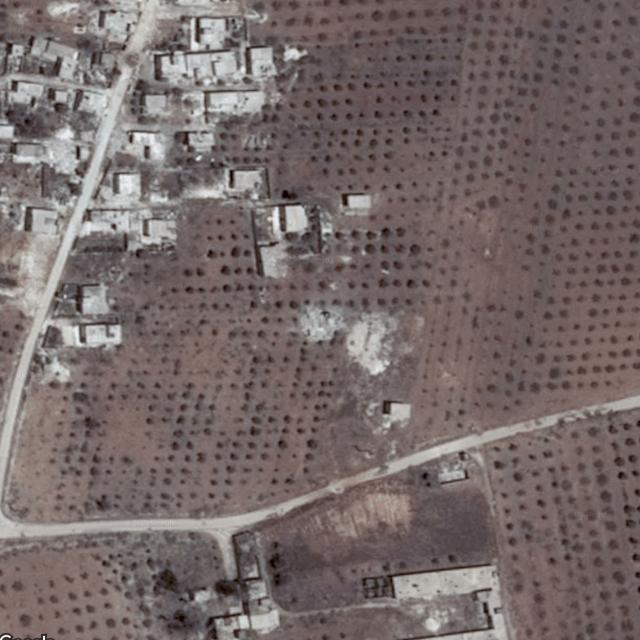damaged_building: (42, 130, 84, 214), (106, 126, 167, 164), (298, 304, 356, 341), (98, 170, 142, 206)
